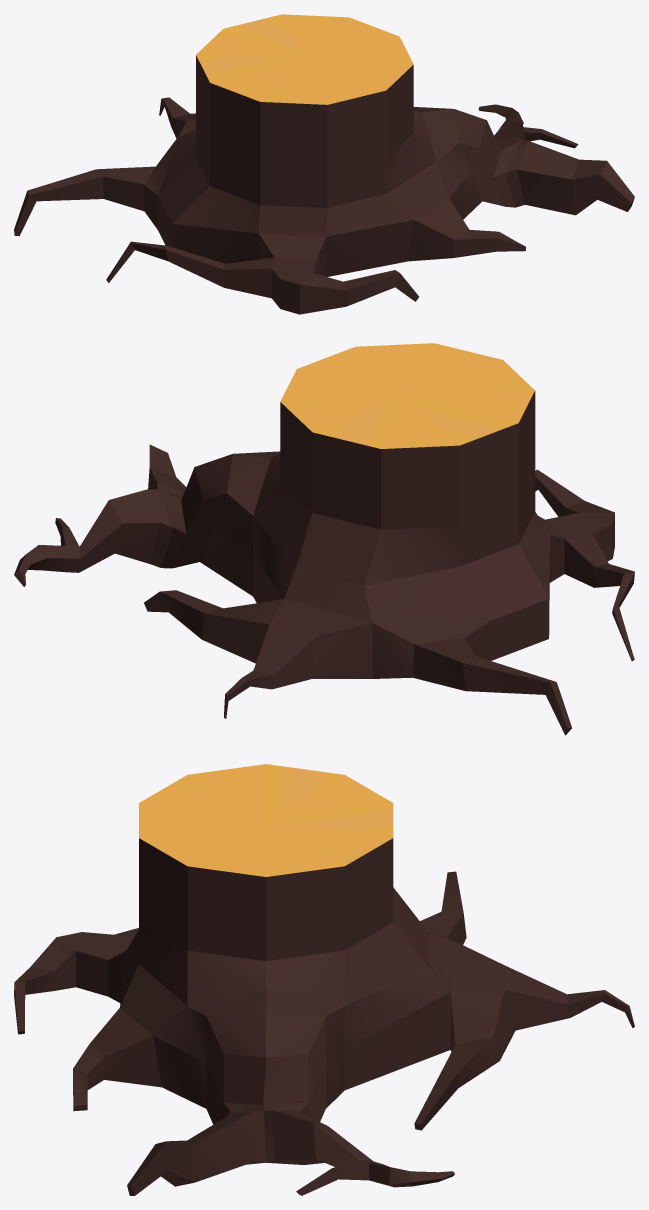
Rendered from trunk-flat.glb.
The picture shows the model from 3 angles, top to bottom: view 1: azimuth 30°, elevation 25°; view 2: azimuth 150°, elevation 25°; view 3: azimuth 270°, elevation 25°; orthographic projection. The views are drawn at different scales.
Parts seen in each view (by area): view 1: trunk; view 2: trunk; view 3: trunk.
Part boxes in pixels (<box>): trunk: <box>14,14,634,314</box>; trunk: <box>14,343,634,735</box>; trunk: <box>14,764,634,1195</box>.
Size of what is drawn, in the model's own units: 6.34 by 2.24 by 5.56.
Materials: 1 (1 with a texture image).
